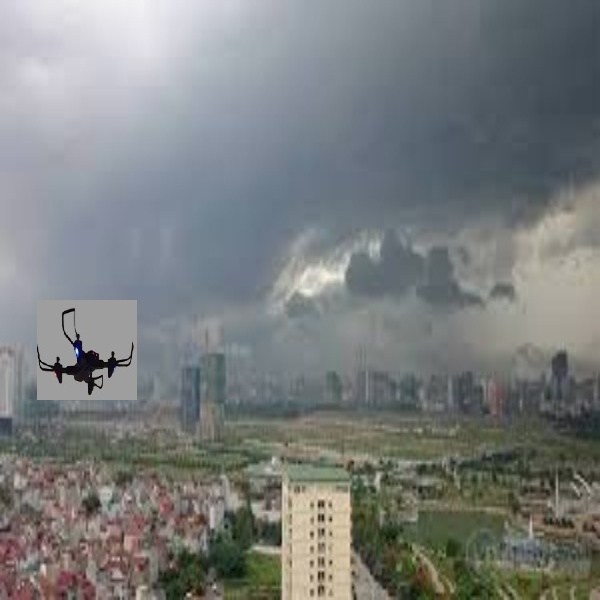drone: (38, 298, 137, 400)
